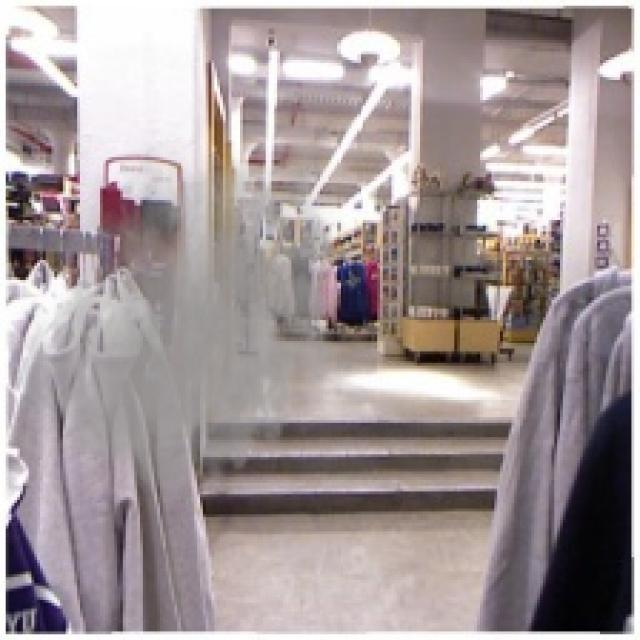Smoke: (8, 122, 354, 518)
